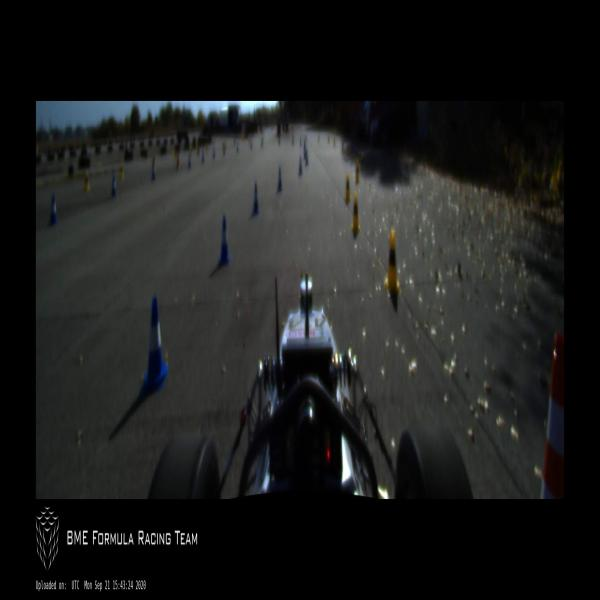blue_cone: (140, 298, 169, 397), (217, 214, 231, 266), (49, 195, 58, 226), (252, 183, 259, 215), (111, 176, 117, 199), (278, 168, 282, 194), (151, 162, 156, 182), (298, 156, 302, 176), (305, 150, 308, 167)
large_orange_cone: (538, 335, 564, 498)
yellow_cone: (384, 230, 400, 295), (351, 192, 360, 232), (344, 172, 351, 202), (84, 170, 91, 190), (354, 160, 360, 183), (119, 160, 124, 179), (360, 151, 364, 171)
